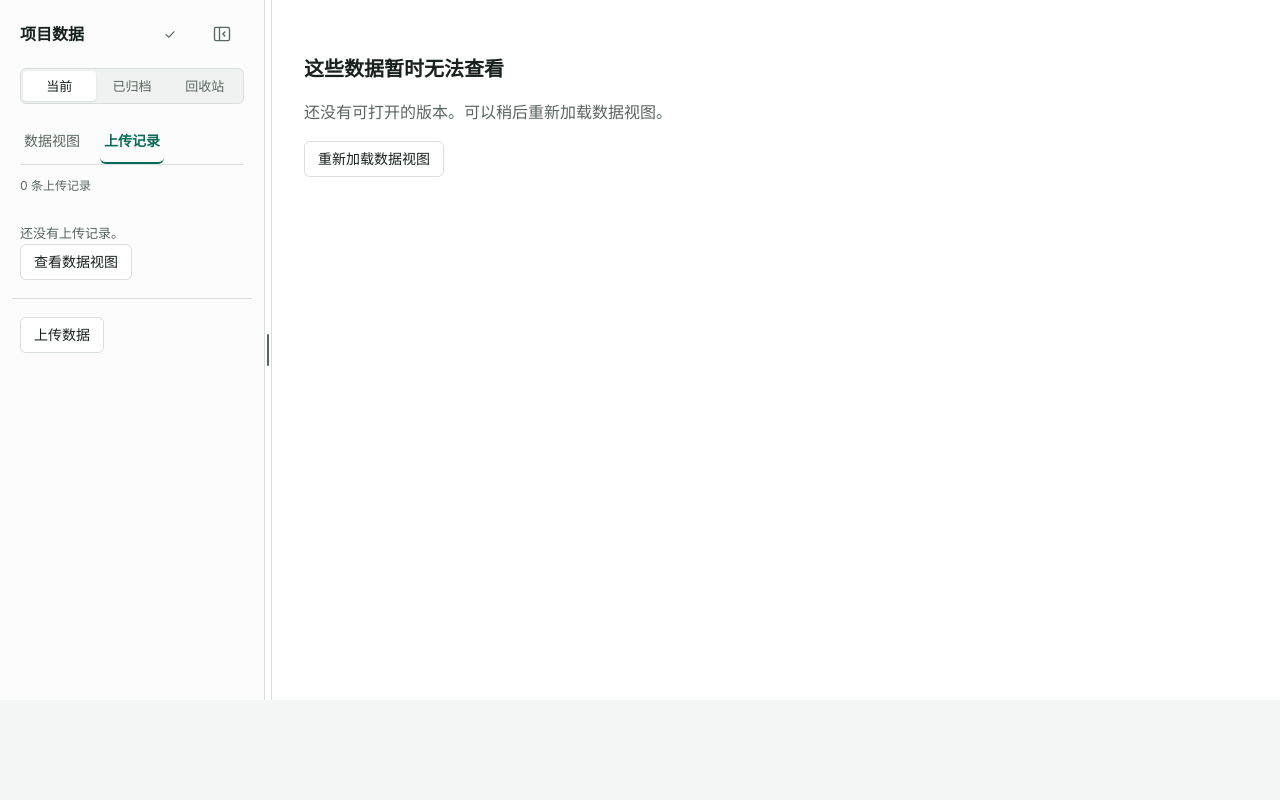
Test: explains unavailable versions without hiding their names or offering invalid links
Expected: the heading "这些数据暂时无法查看" is shown, [304,56,504,83]
Click the button "查看数据视图" at (76, 262), box [20,244,132,280]
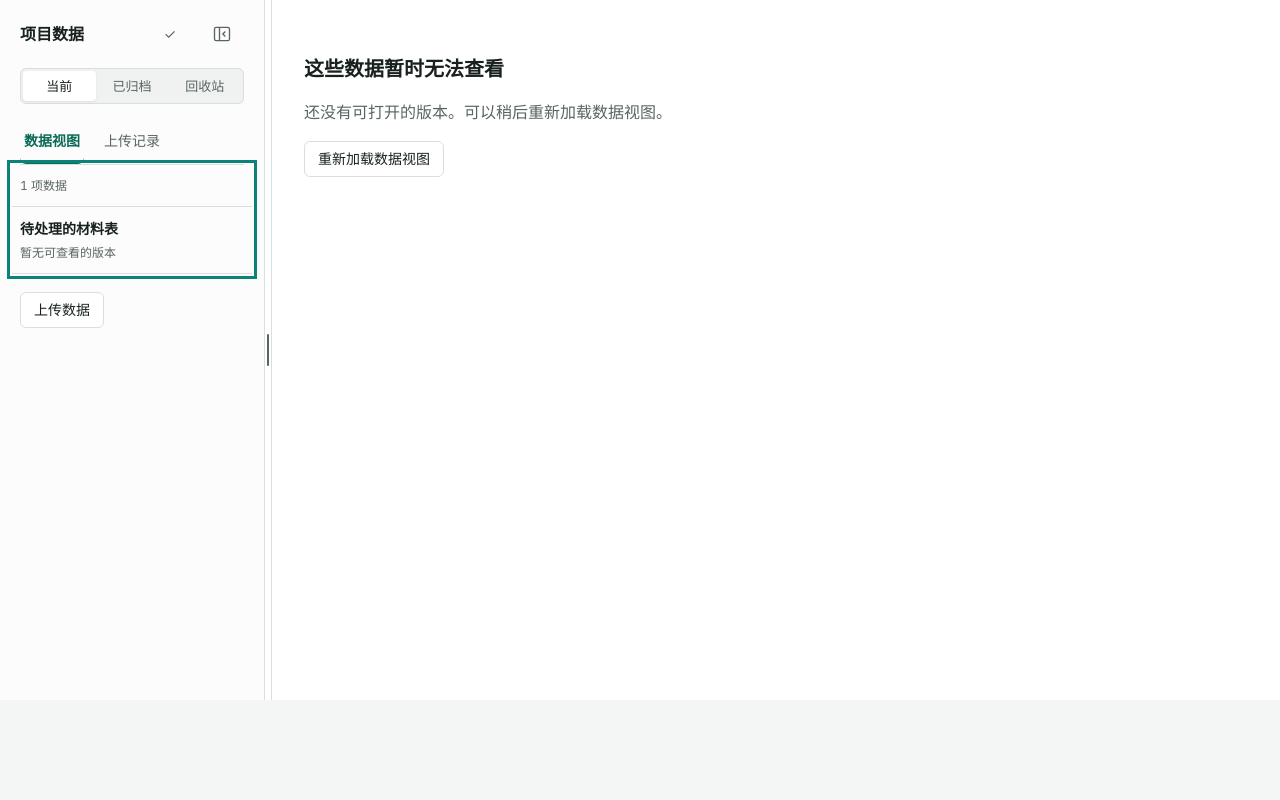
Now the text "待处理的材料表" is shown, box [20,220,118,237]
Now the text "1 项数据" is shown, box [20,178,67,193]
Click the button named "选择多个数据或科研对象" at (170, 34), box [148,12,192,56]
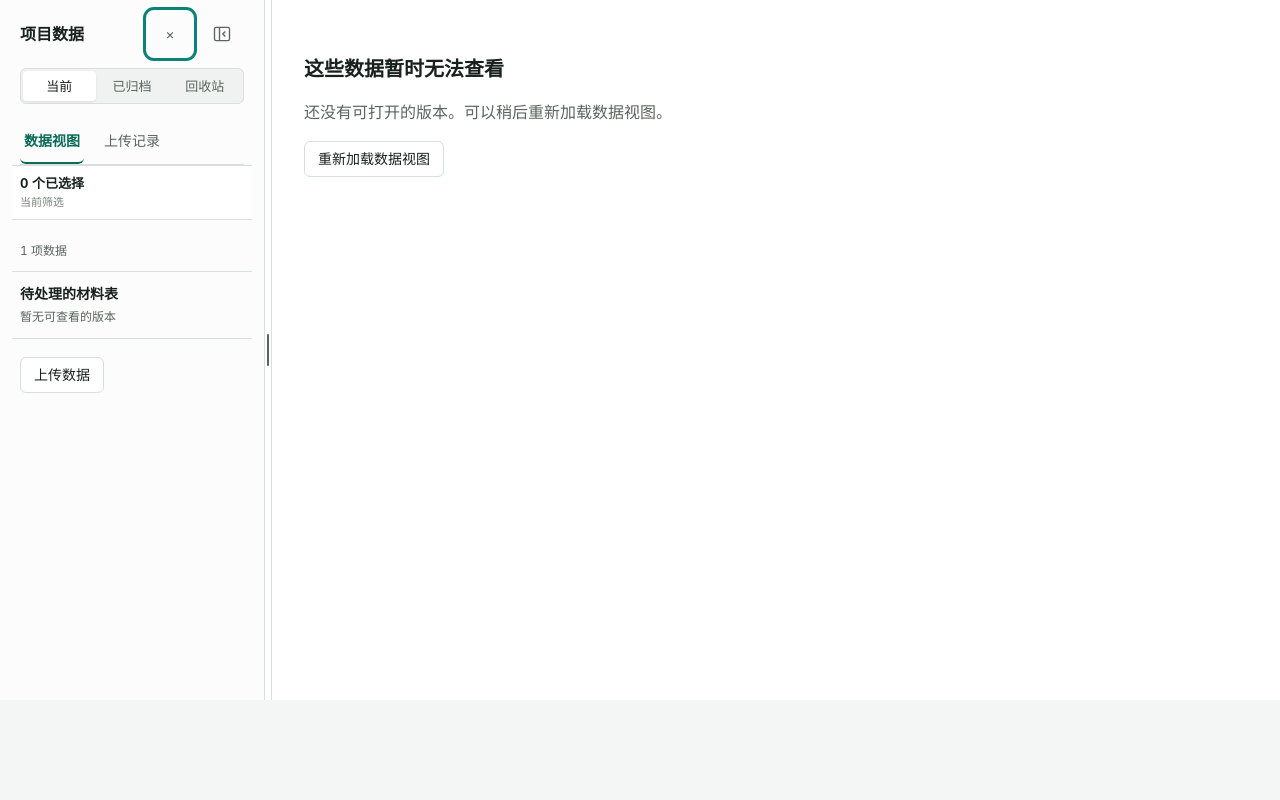
Click the button "重新加载数据视图" at (374, 159), box [304,141,444,177]
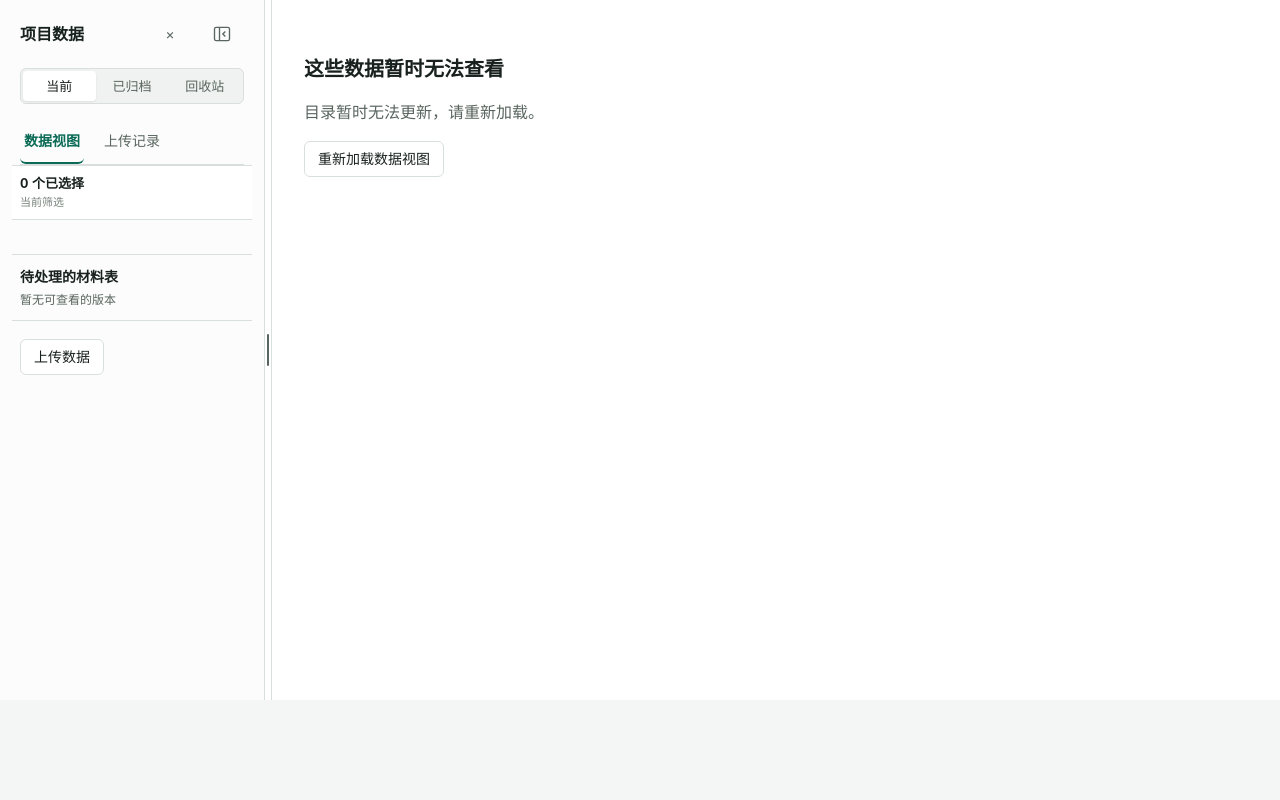
Now the text "待处理的材料表" is shown, box [20,268,118,285]
Now the message shows "目录暂时无法更新，请重新加载。", box [304,102,544,122]
